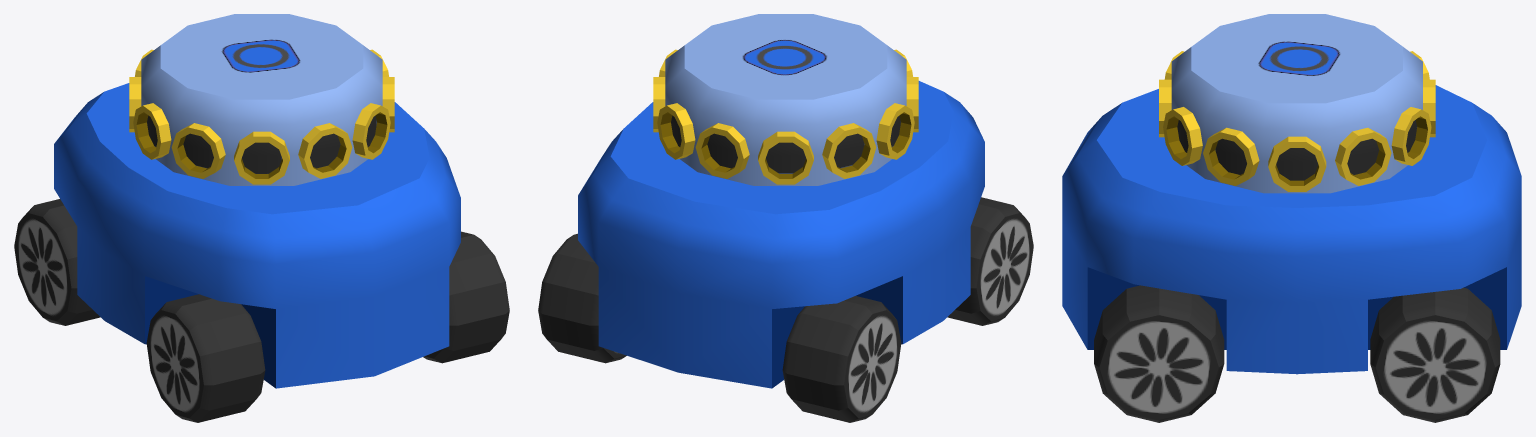
Rendered from Obj_2PCharacter.fbx.
The picture shows the model from 3 angles, left to right: view 1: azimuth 30°, elevation 25°; view 2: azimuth 150°, elevation 25°; view 3: azimuth 270°, elevation 25°; orthographic projection. The views are drawn at different scales.
Visible parts, largest first — view 1: pCylinder9; view 2: pCylinder9; view 3: pCylinder9.
Part boxes in pixels (<box>): pCylinder9: <box>14,14,509,422</box>; pCylinder9: <box>538,14,1033,422</box>; pCylinder9: <box>1062,14,1521,422</box>.
Bounding box in the file's own units: 8.22 × 6.95 × 9.99.
2 materials, 2 textured.
